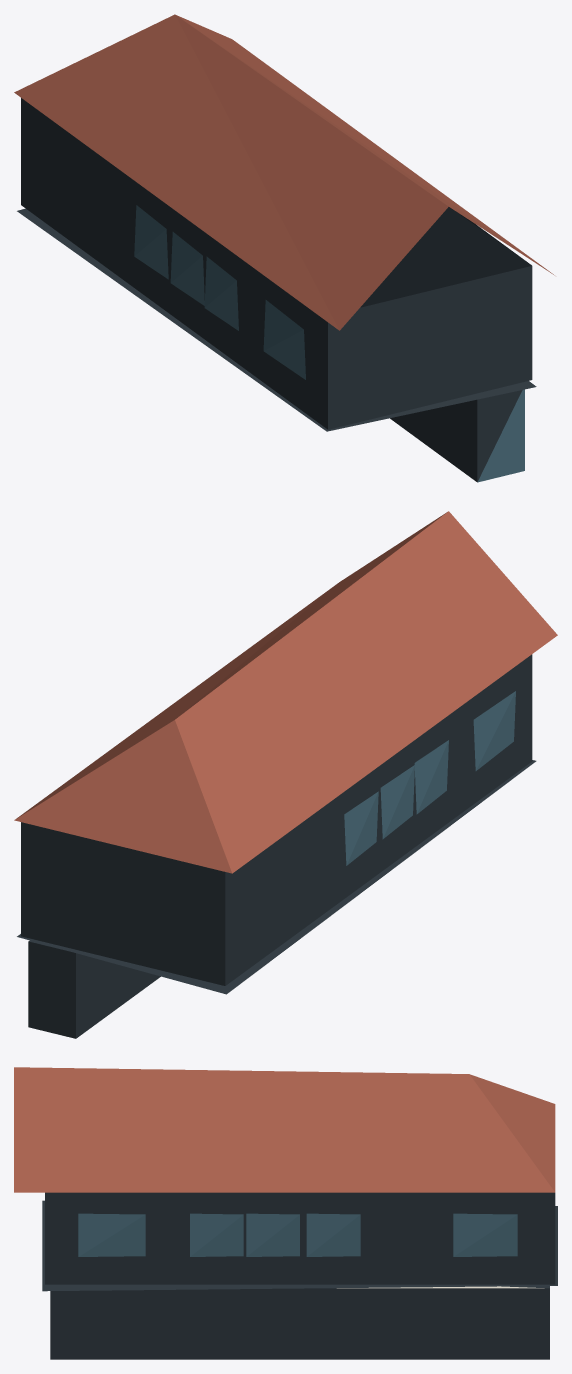
Rendered from naco-house.lod2.glb.
3 views of the same model, one above another, from view 1: azimuth 30°, elevation 25°; view 2: azimuth 150°, elevation 25°; view 3: azimuth 270°, elevation 25° (orthographic). The views are drawn at different scales.
Visible parts, largest first — view 1: lod2; view 2: lod2; view 3: lod2.
Part boxes in pixels (left/top/right/bottom): lod2: left=14, top=14, right=554, bottom=482; lod2: left=14, top=511, right=557, bottom=1038; lod2: left=14, top=1067, right=557, bottom=1359.
Size of the model in its own units: 7.8 by 10.38 by 20.25.
